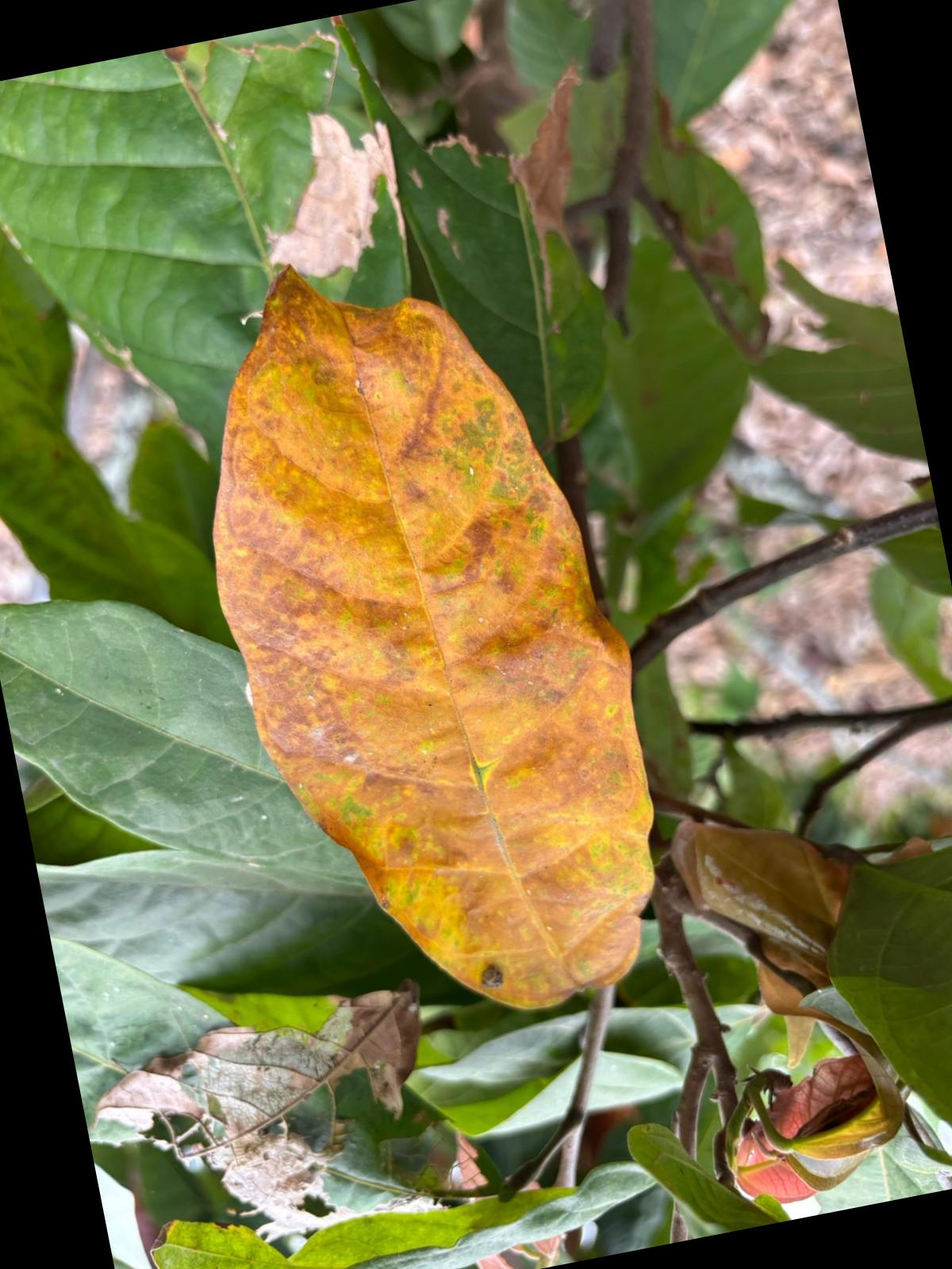Fosforo: (215, 271, 652, 1007)
